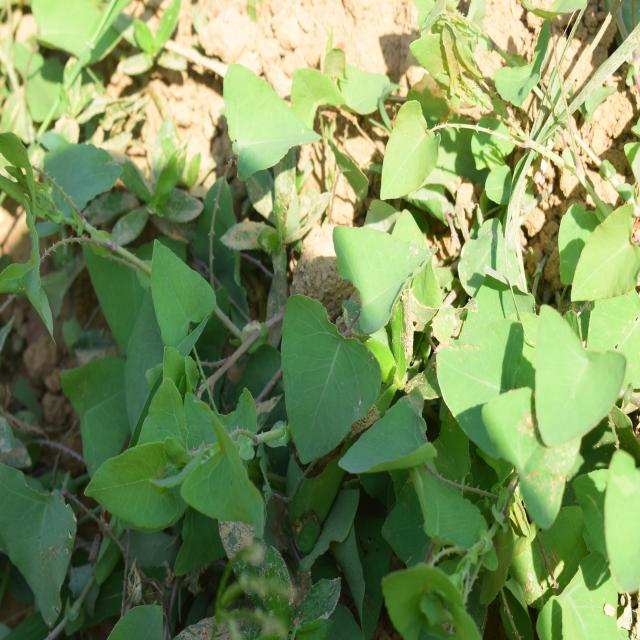Asiatic_Smartweed: (60, 237, 269, 533), (270, 209, 464, 495), (478, 310, 640, 580), (215, 49, 342, 177), (363, 87, 460, 204)
